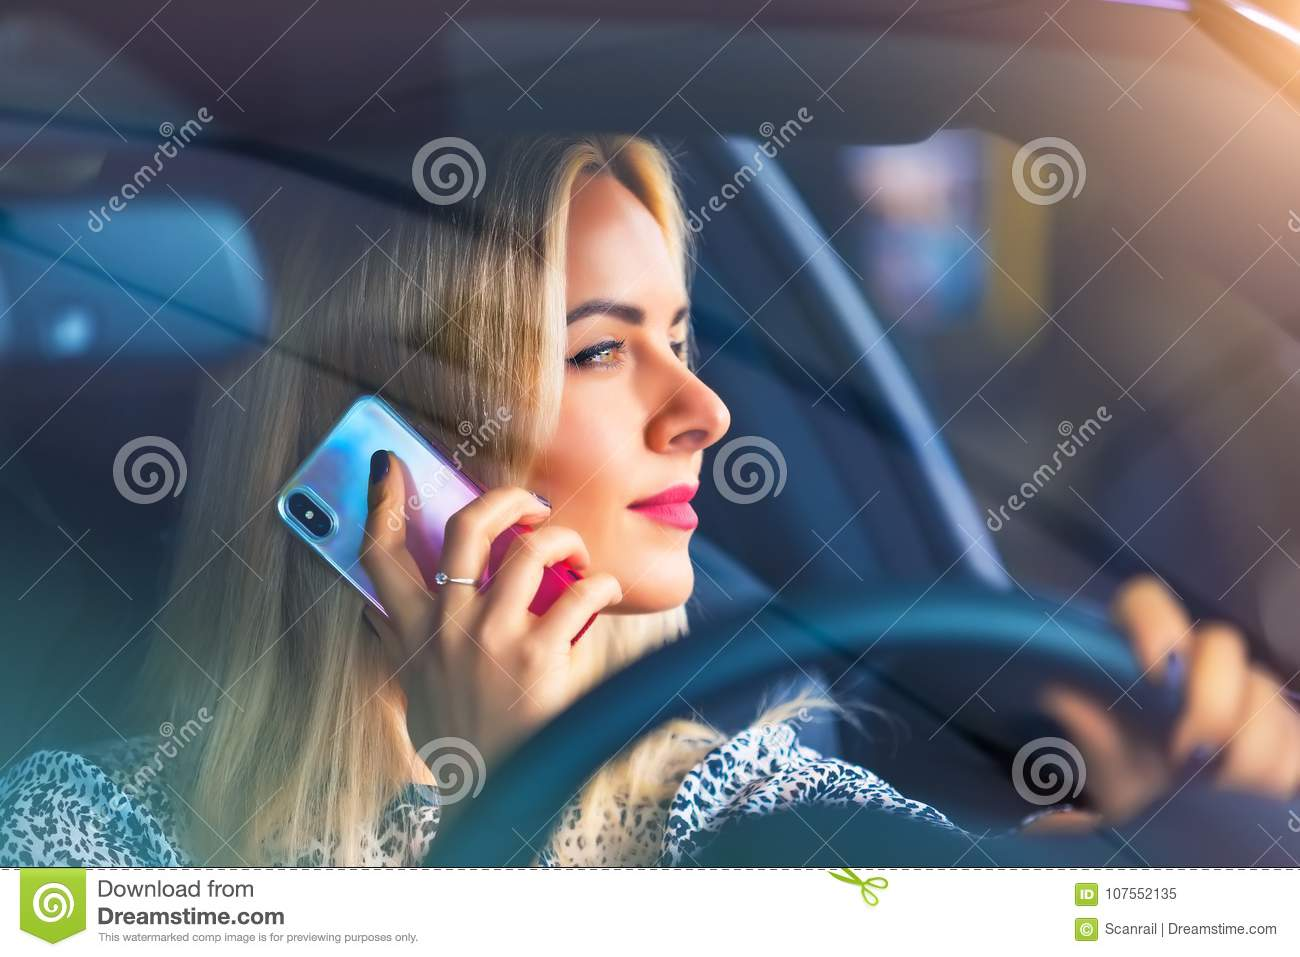phone: (275, 395, 601, 693)
talk: (270, 290, 724, 843)
